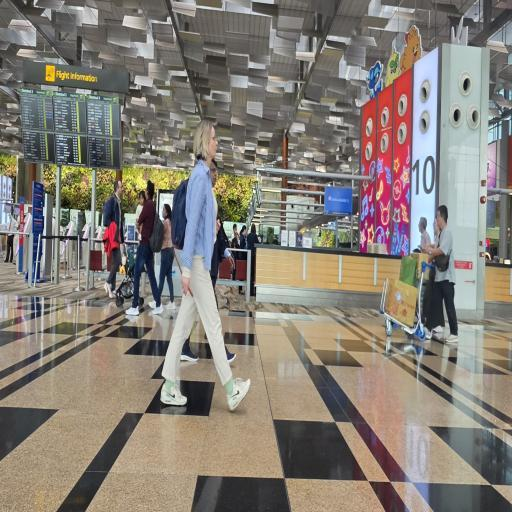person_left: (134, 174, 162, 300), (156, 192, 175, 310)
person_right: (168, 116, 230, 410), (206, 154, 232, 366), (100, 166, 123, 290)
person_with_luggage_left: (382, 208, 459, 344)
